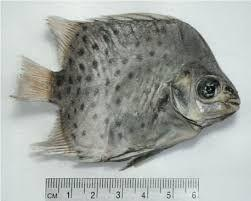Scat Fish: (17, 12, 241, 172)
